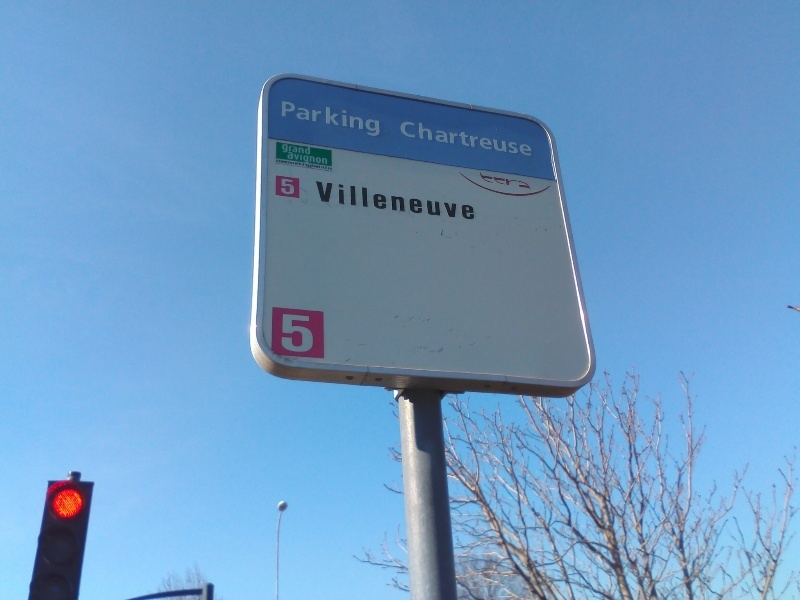text: (289, 311, 304, 356), (321, 180, 336, 221), (337, 180, 352, 221), (353, 180, 368, 221), (369, 180, 384, 221), (385, 180, 400, 221), (401, 180, 416, 221), (417, 180, 432, 221), (433, 180, 448, 221), (449, 180, 464, 221), (401, 118, 416, 158), (417, 118, 432, 158), (433, 118, 448, 158), (449, 118, 464, 158), (465, 118, 480, 158), (481, 118, 496, 158), (497, 118, 512, 158), (513, 118, 528, 158), (289, 99, 304, 138), (305, 99, 320, 138), (321, 99, 336, 138), (337, 99, 352, 138), (353, 99, 368, 138), (369, 99, 384, 138), (305, 311, 316, 356), (465, 180, 476, 221), (279, 311, 288, 356), (481, 172, 496, 191), (497, 172, 512, 191), (513, 172, 528, 191), (281, 99, 288, 138), (289, 151, 304, 165), (305, 151, 320, 165), (315, 180, 320, 221), (529, 118, 534, 158), (289, 143, 304, 156), (305, 163, 320, 172), (289, 178, 296, 195), (321, 151, 329, 165), (321, 163, 333, 172), (282, 178, 288, 195), (289, 159, 303, 166), (276, 159, 288, 166), (282, 143, 288, 156), (305, 143, 311, 156), (529, 172, 532, 191), (478, 172, 480, 191), (302, 163, 304, 172), (287, 151, 288, 165)
